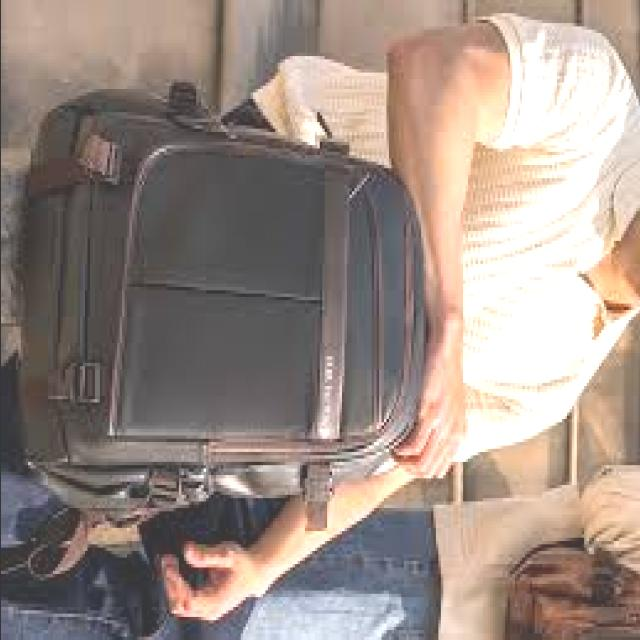backpack: (19, 80, 429, 526)
